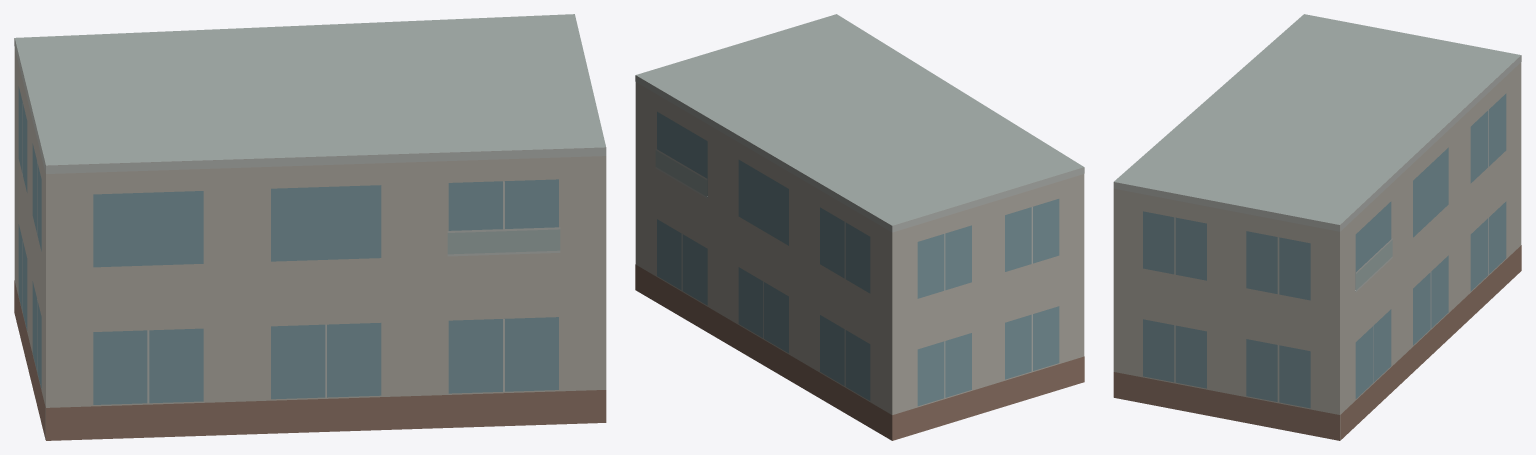
Rendered from survey-upis-32902671.glb.
3 views of the same model, side by side, from view 1: azimuth 30°, elevation 25°; view 2: azimuth 150°, elevation 25°; view 3: azimuth 270°, elevation 25° (orthographic). The views are drawn at different scales.
Parts seen in each view (by area): view 1: survey-upis-32902671.tmp; view 2: survey-upis-32902671.tmp; view 3: survey-upis-32902671.tmp.
Boxes of the visible parts, x1,y1,x2,y2 form: survey-upis-32902671.tmp: (14,14,606,440); survey-upis-32902671.tmp: (635,14,1084,440); survey-upis-32902671.tmp: (1113,14,1521,440).
Size of the model in its own units: 16.37 by 7.8 by 13.37.
